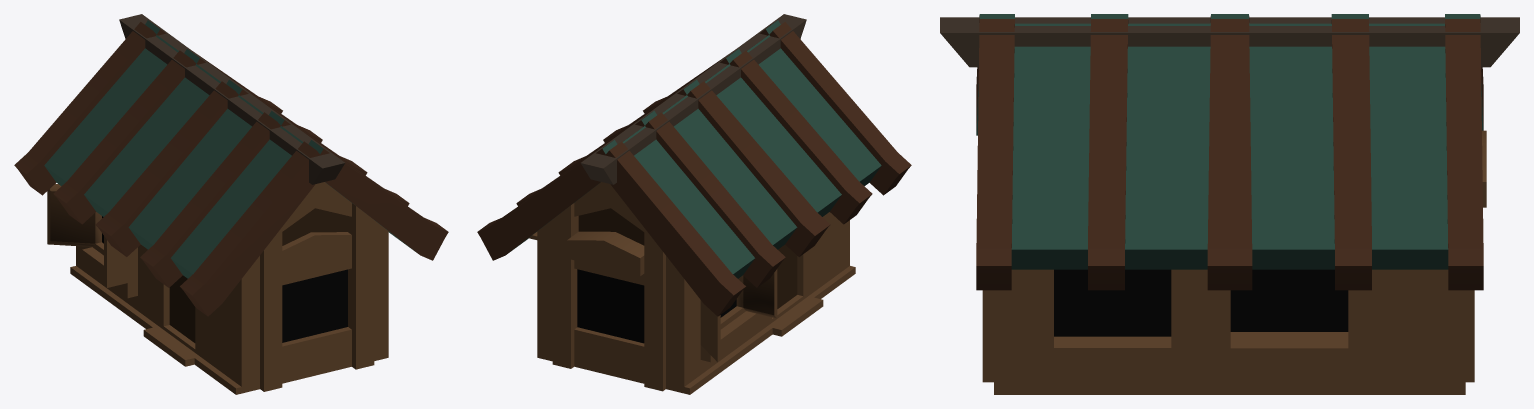
The model's file is Domek wariant 1.fbx.
3 views of the same model, side by side, from view 1: azimuth 30°, elevation 25°; view 2: azimuth 150°, elevation 25°; view 3: azimuth 270°, elevation 25° (orthographic). The views are drawn at different scales.
Visible parts, largest first — view 1: Cube.012; view 2: Cube.012; view 3: Cube.012.
Boxes of the visible parts, x1,y1,x2,y2 form: Cube.012: (14,14,448,394); Cube.012: (477,14,911,394); Cube.012: (940,14,1519,394).
Bounding box in the file's own units: 2246 × 1923 × 3084.
